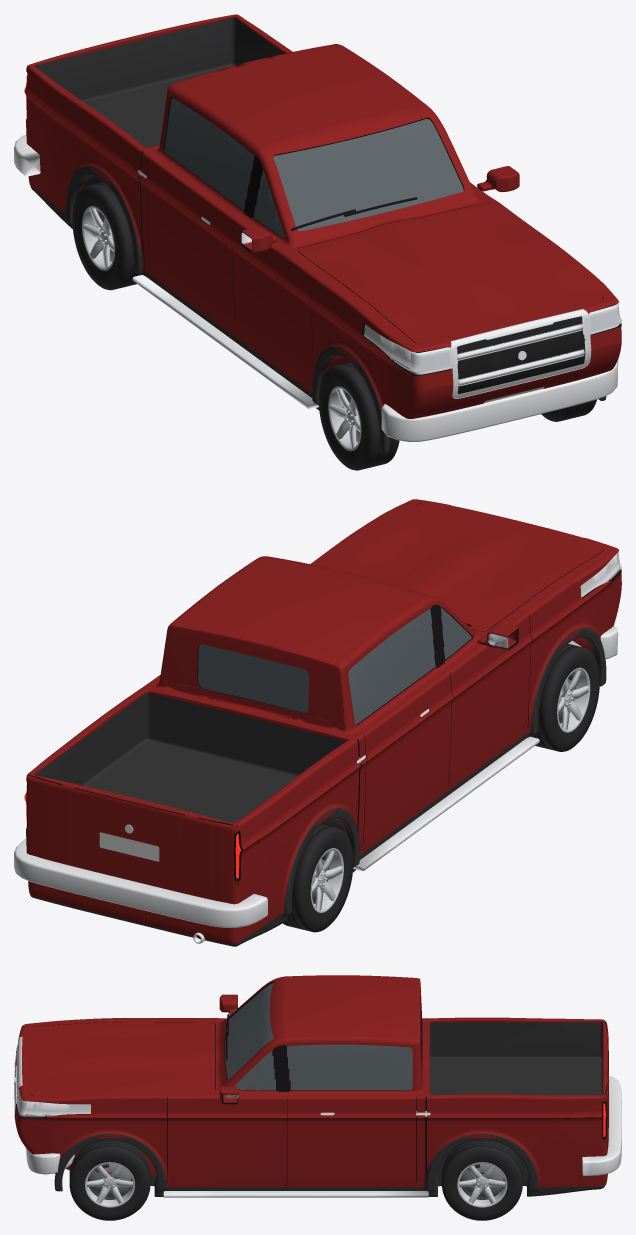
Rendered from stallworth-prairie.fbx.
3 renders of one model, top to bottom at view 1: azimuth 30°, elevation 25°; view 2: azimuth 150°, elevation 25°; view 3: azimuth 270°, elevation 25°, orthographic. The views are drawn at different scales.
Parts seen in each view (by area): view 1: Body_LOD0, Glass_LOD0, Cladding_LOD0, BumperFront_LOD0, Wheel_FR_LOD0, Wheel_RR_LOD0, Grille_LOD0, Chrome_LOD0, SideSteps_LOD0, Walls_LOD0, GrilleBars_LOD0, HeadlightLens_LOD0 (+2 smaller); view 2: Body_LOD0, Cladding_LOD0, Glass_LOD0, BumperRear_LOD0, Wheel_RR_LOD0, Wheel_FR_LOD0, SideSteps_LOD0, Walls_LOD0, Plate_LOD0, Gloss_LOD0, Chrome_LOD0; view 3: Body_LOD0, Cladding_LOD0, Glass_LOD0, Wheel_RL_LOD0, Wheel_FL_LOD0, SideSteps_LOD0, BumperRear_LOD0, Chrome_LOD0, Walls_LOD0, Gloss_LOD0, BumperFront_LOD0, Gap_LOD0.
Part boxes in pixels (<box>): Body_LOD0: <box>24,14,621,418</box>; Glass_LOD0: <box>164,98,488,248</box>; Cladding_LOD0: <box>30,18,606,453</box>; BumperFront_LOD0: <box>381,360,618,441</box>; Wheel_FR_LOD0: <box>318,362,399,470</box>; Wheel_RR_LOD0: <box>72,182,138,290</box>; Grille_LOD0: <box>457,316,585,393</box>; Chrome_LOD0: <box>137,169,618,398</box>; SideSteps_LOD0: <box>132,275,318,409</box>; Walls_LOD0: <box>26,65,621,398</box>; GrilleBars_LOD0: <box>457,323,584,386</box>; HeadlightLens_LOD0: <box>403,303,621,373</box>; Body_LOD0: <box>26,499,621,944</box>; Cladding_LOD0: <box>30,627,606,946</box>; Glass_LOD0: <box>198,608,514,724</box>; BumperRear_LOD0: <box>14,839,267,927</box>; Wheel_RR_LOD0: <box>283,824,353,932</box>; Wheel_FR_LOD0: <box>533,643,599,751</box>; SideSteps_LOD0: <box>353,736,539,871</box>; Walls_LOD0: <box>24,503,621,911</box>; Plate_LOD0: <box>99,832,159,861</box>; Gloss_LOD0: <box>26,605,445,879</box>; Chrome_LOD0: <box>357,553,620,763</box>; Body_LOD0: <box>14,975,608,1187</box>; Cladding_LOD0: <box>54,1022,605,1196</box>; Glass_LOD0: <box>225,983,421,1098</box>; Wheel_RL_LOD0: <box>442,1140,522,1220</box>; Wheel_FL_LOD0: <box>69,1140,150,1220</box>; SideSteps_LOD0: <box>163,1191,428,1197</box>; BumperRear_LOD0: <box>582,1076,621,1176</box>; Chrome_LOD0: <box>14,1036,430,1117</box>; Walls_LOD0: <box>14,982,608,1187</box>; Gloss_LOD0: <box>272,1045,605,1138</box>; BumperFront_LOD0: <box>26,1148,74,1174</box>; Gap_LOD0: <box>167,1025,605,1182</box>.
Size of what is drawn, in the model's own units: 2.31 by 1.92 by 6.01.
